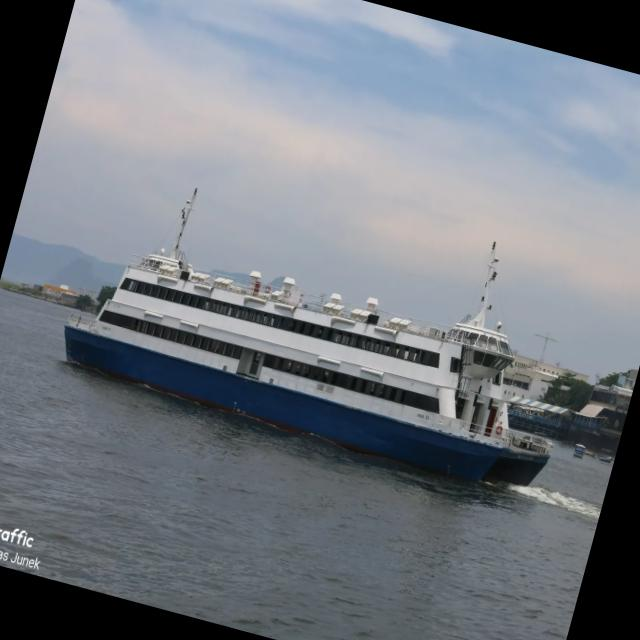Passenger: (64, 188, 550, 485)
